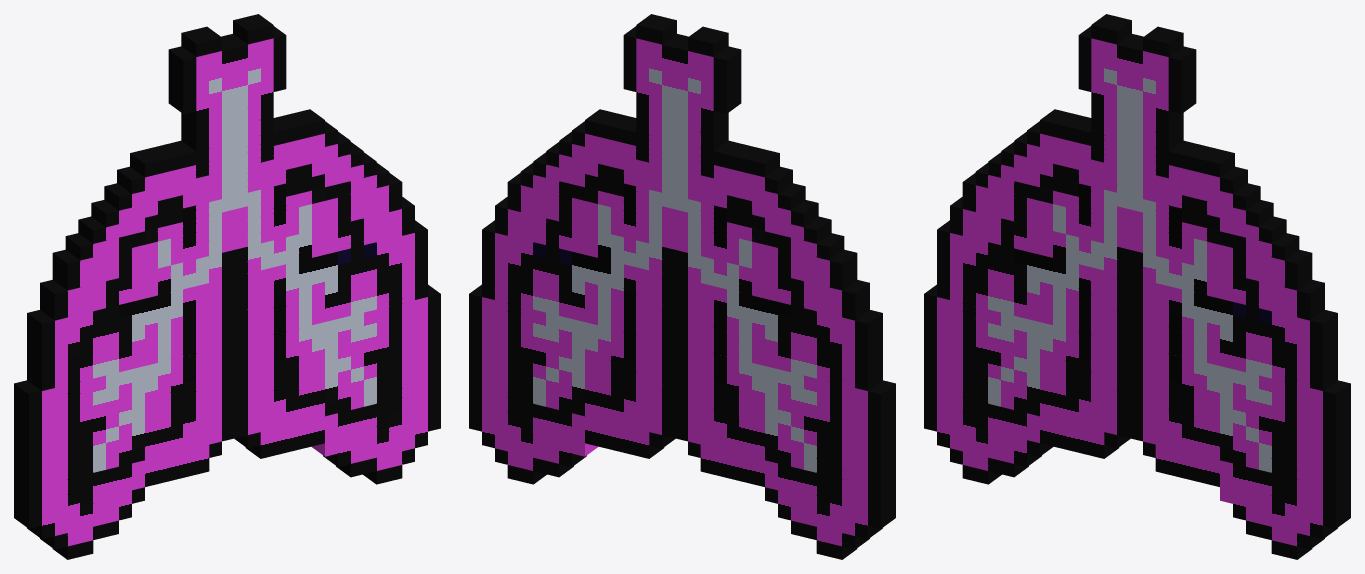
The model's file is 43-lungs.gltf.
The picture shows the model from 3 angles, left to right: view 1: azimuth 30°, elevation 25°; view 2: azimuth 150°, elevation 25°; view 3: azimuth 330°, elevation 25°; orthographic projection.
Parts seen in each view (by area): view 1: Content-Mesh; view 2: Content-Mesh; view 3: Content-Mesh.
Boxes of the visible parts, box(x1,y1,x2,y2) form: Content-Mesh: box(14, 14, 440, 559); Content-Mesh: box(469, 14, 895, 559); Content-Mesh: box(924, 14, 1350, 559).
Size of the model in its own units: 32 by 36 by 2.
1 material, 1 textured.
